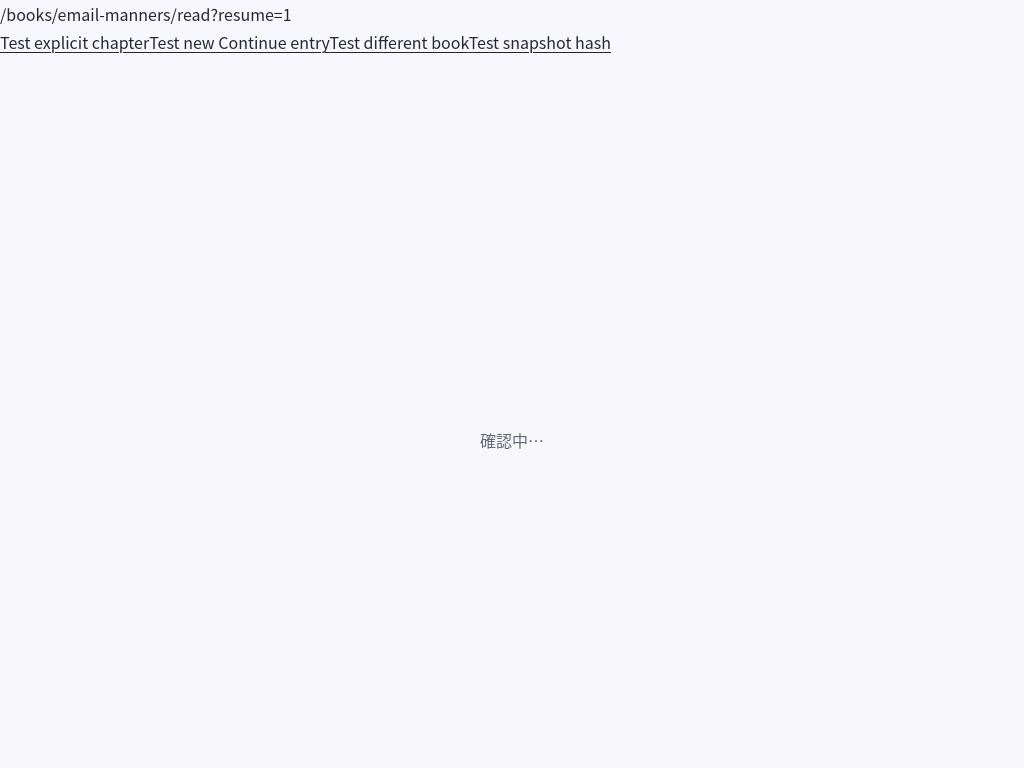
it: reader resume intent › ignores a late resume read after switching to a different book
Check: the text "確認中…" is shown, box [480, 426, 544, 454]
What coordinates should you click on to do the following:
click the link "Test different book"
I would click on:
 (399, 42)
Its box is [330, 30, 469, 54].
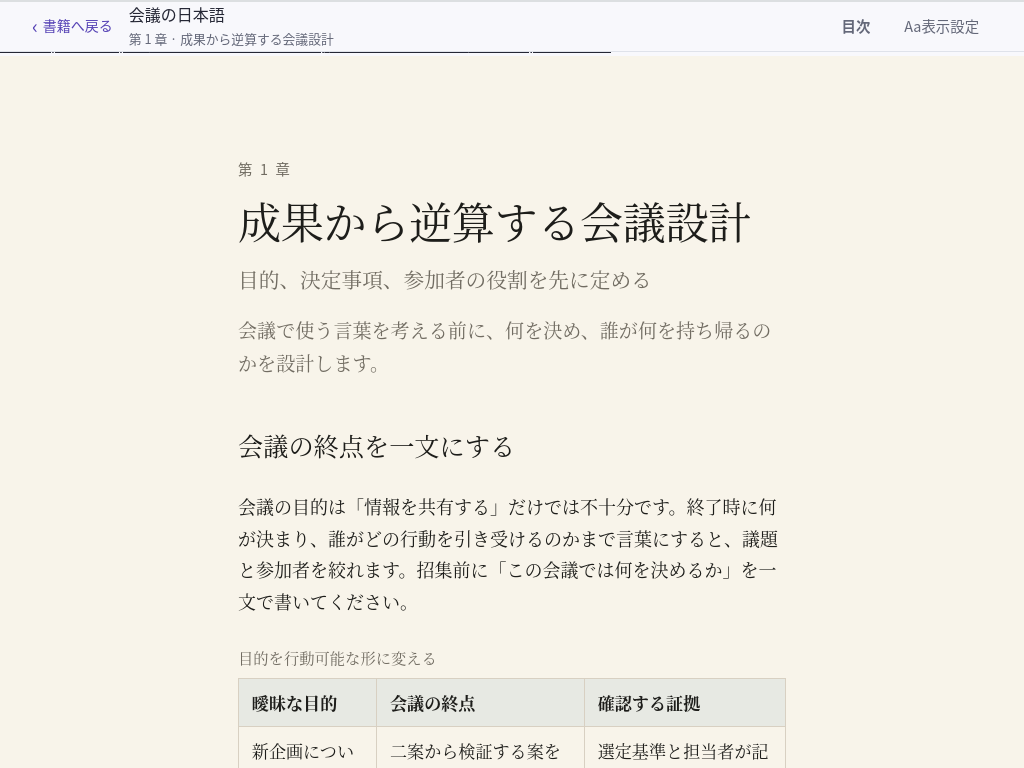
Check: the text with test id "location" reads "/books/meeting-japanese/read/meeting-purpose", box [0, 2, 367, 26]
Check: the heading "成果から逆算する会議設計" is shown, box [238, 193, 786, 248]
